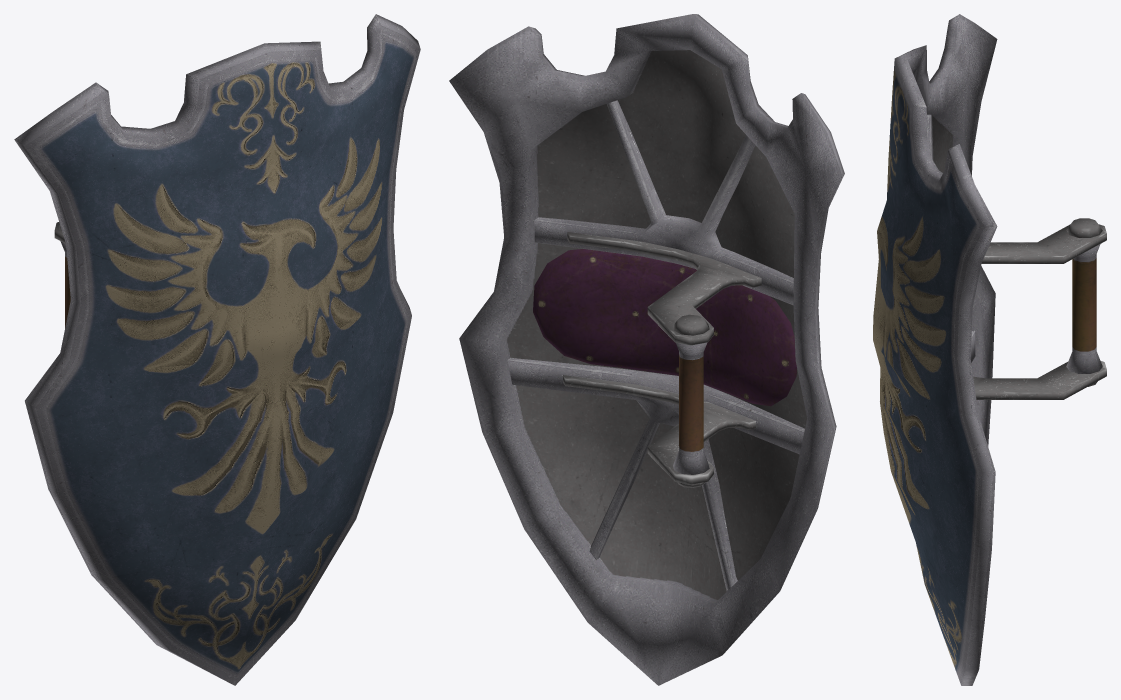
File: Warrior_Lv3_Shield.fbx
3 renders of one model, left to right at view 1: azimuth 30°, elevation 25°; view 2: azimuth 150°, elevation 25°; view 3: azimuth 270°, elevation 25°, orthographic. The views are drawn at different scales.
Parts seen in each view (by area): view 1: Shield_005; view 2: Shield_005; view 3: Shield_005.
Boxes of the visible parts, x1=… form: Shield_005: x1=14, y1=14, x2=420, y2=685; Shield_005: x1=449, y1=14, x2=844, y2=685; Shield_005: x1=873, y1=14, x2=1106, y2=685.
Size of the model in its own units: 37.54 by 59 by 19.79.
